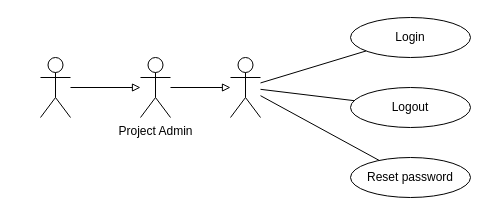
Image size: 488x215. Some labels were removed from this diagram. The centre of each missing label's shape, as x and y in pixels:
System Admin: the point at 55,87
User: the point at 245,87
